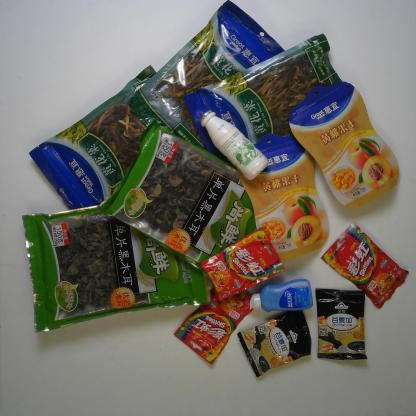Candy: (322, 220, 410, 308), (175, 278, 255, 370), (198, 226, 281, 301)
Dried Food: (30, 63, 207, 237), (140, 0, 294, 162), (20, 198, 208, 329), (185, 36, 347, 183), (110, 127, 264, 262)
Dried Fruit: (285, 79, 401, 211), (229, 135, 334, 259)
Instant Drink: (232, 308, 316, 382), (312, 284, 375, 364)
Milk: (199, 106, 274, 184)
Personal Hygiene: (248, 280, 316, 320)
